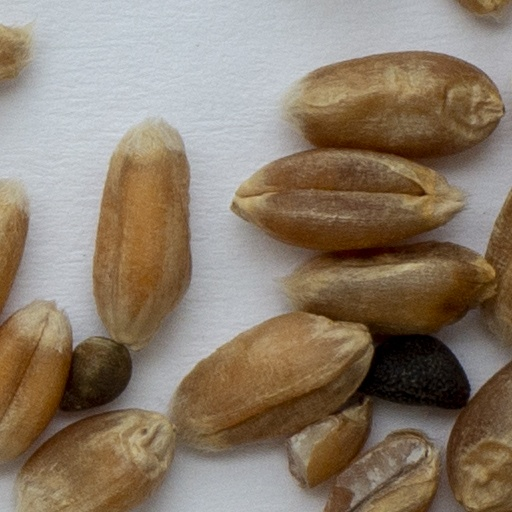Wheat-grain-damaged-poly: (321, 428, 443, 511), (287, 398, 373, 486)
